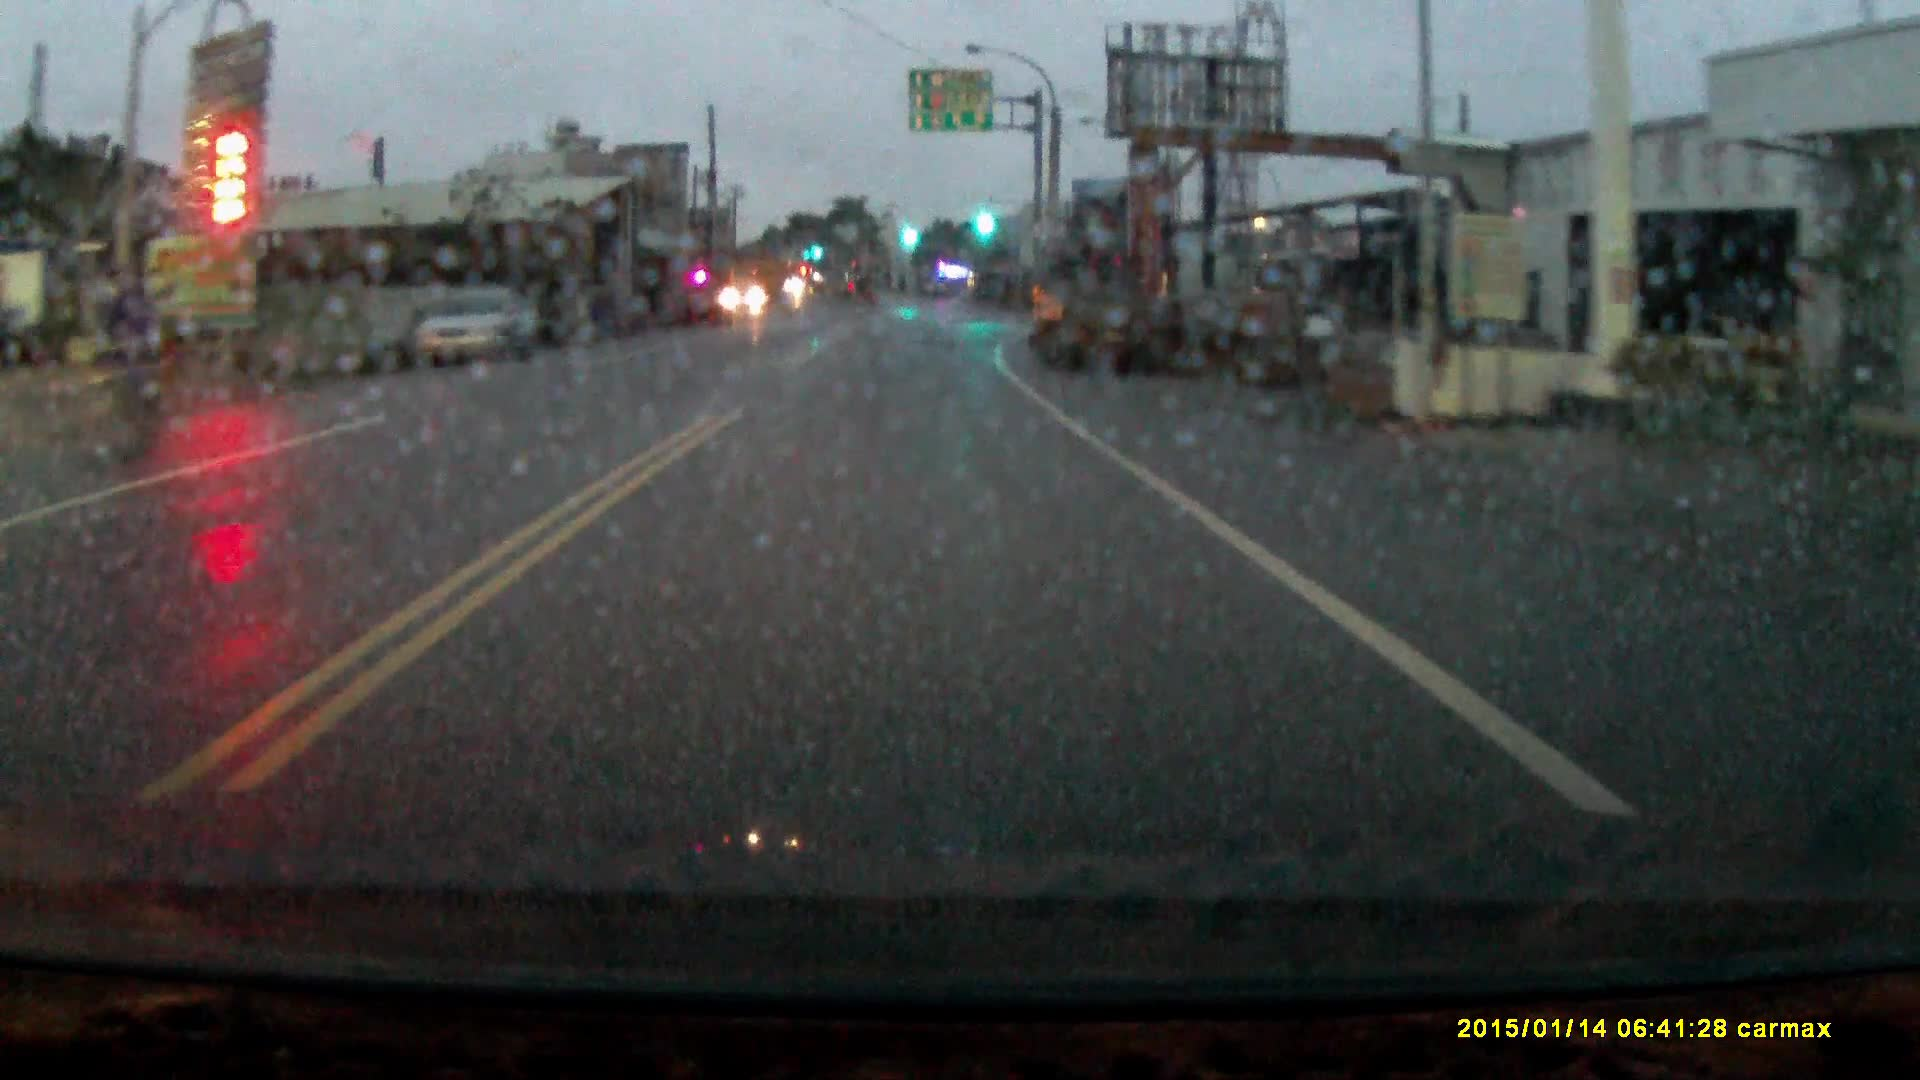rider: (66, 255, 170, 474)
vehicle: (1031, 258, 1153, 381), (412, 293, 543, 368), (717, 261, 787, 323)
